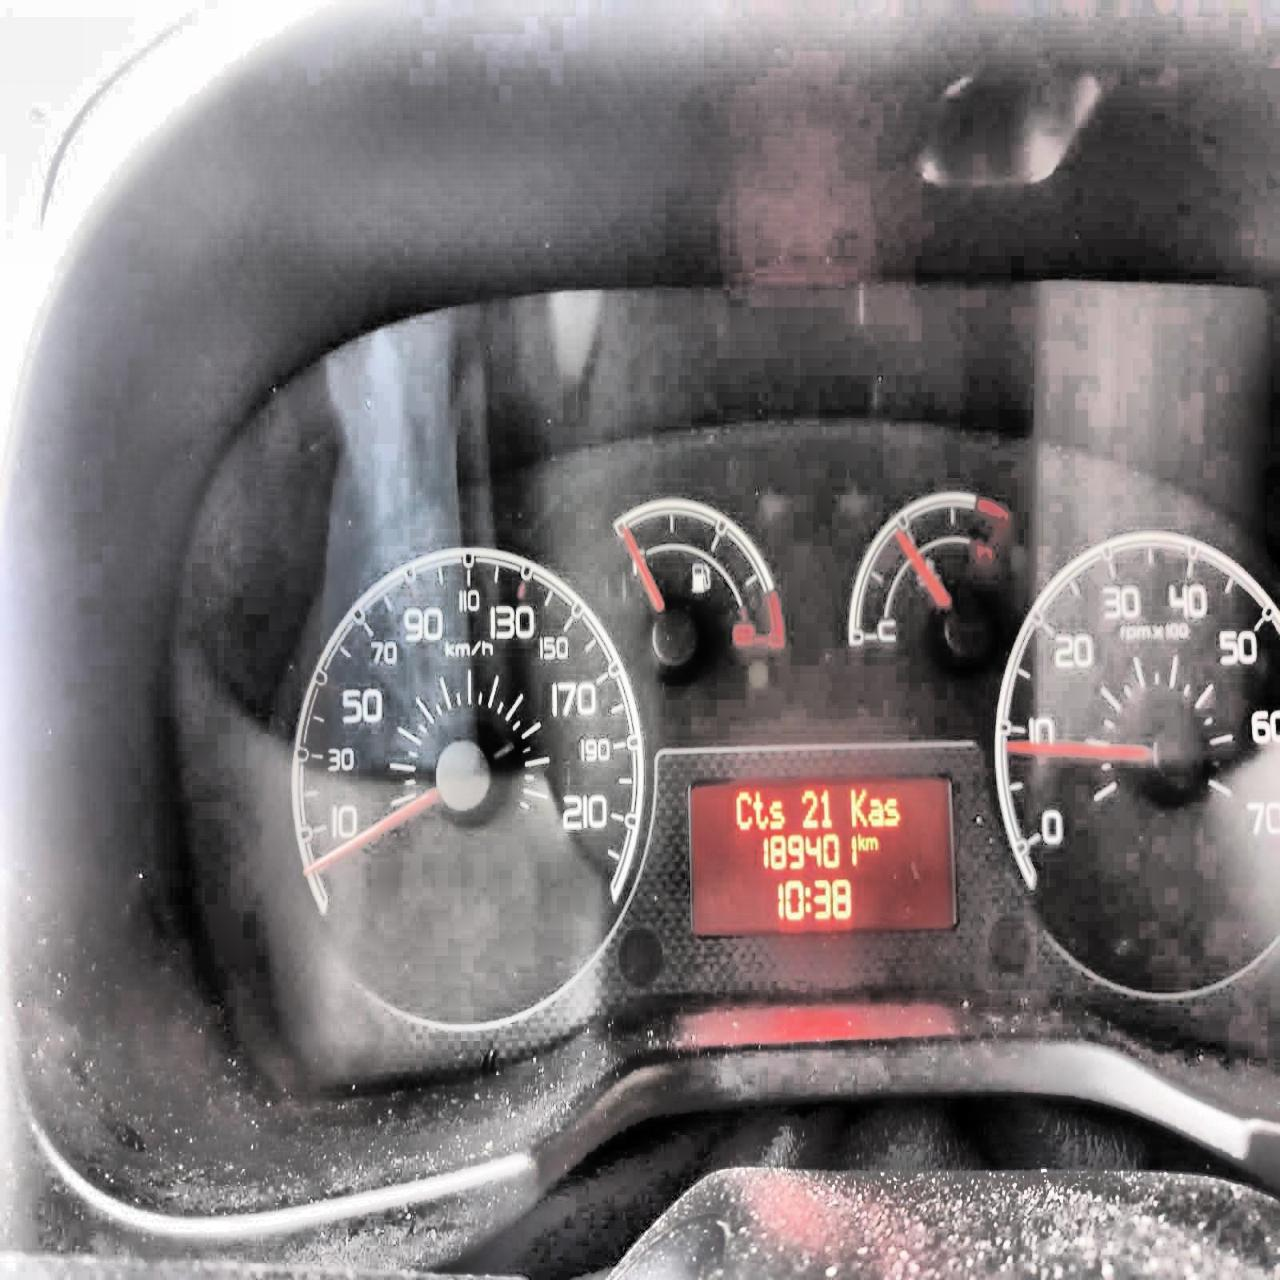0: (784, 878, 804, 919), (822, 832, 839, 869)
1: (821, 788, 831, 826), (775, 881, 784, 920), (761, 836, 769, 870), (850, 835, 857, 866)
2: (799, 788, 819, 828)
3: (812, 878, 831, 919)
4: (805, 833, 822, 869)
8: (831, 877, 851, 919), (769, 832, 787, 870)
9: (787, 832, 804, 870)
X: (734, 789, 753, 830), (850, 788, 869, 829), (753, 789, 769, 831), (883, 797, 900, 826), (769, 799, 785, 829), (869, 797, 883, 828), (804, 885, 812, 914), (865, 835, 878, 851), (857, 832, 865, 850)
odometer: (686, 771, 958, 941)
